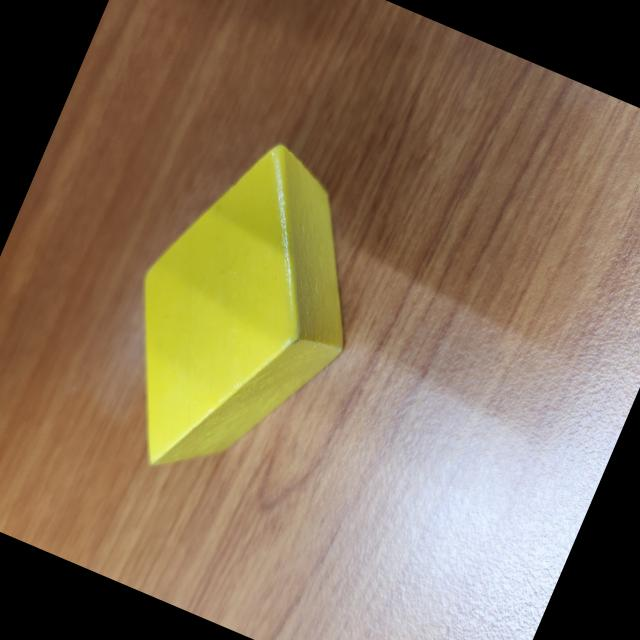yellow: (75, 114, 409, 518)
